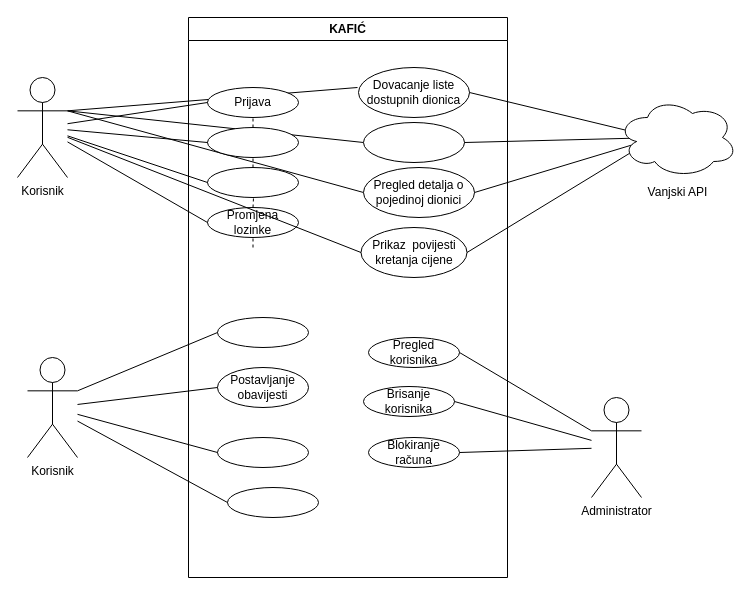
Image size: 755x595. Some labels were removed from this diagram. The centre of each missing label's shape, as x and y in pixels:
Dobivanje obavijesti: the point at 262,452
Prikaz cijene trenutnih dionica: the point at 413,142
Registracija: the point at 252,142
Stvaranje izvještaja: the point at 272,502
Upravljanje portfeljom: the point at 262,332
Upravljanje profilom: the point at 252,182
